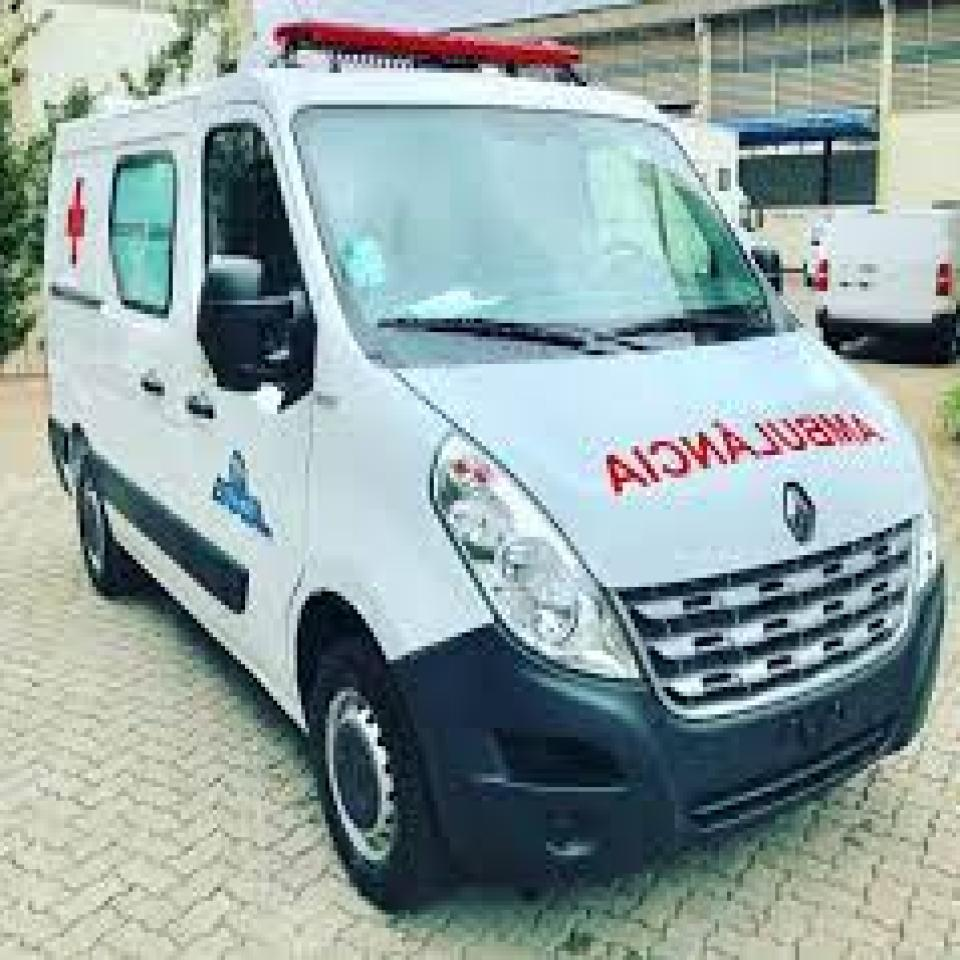bombeiro: (42, 12, 946, 920)
